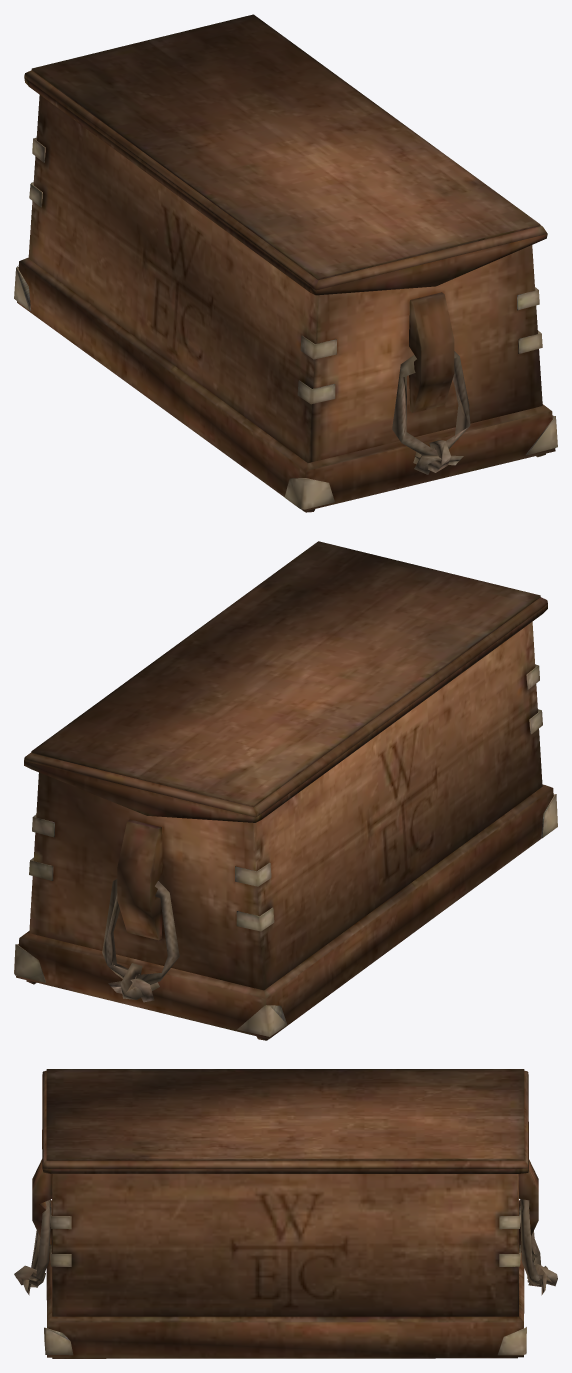
File: wooden_crate_02.glb
3 renders of one model, top to bottom at view 1: azimuth 30°, elevation 25°; view 2: azimuth 150°, elevation 25°; view 3: azimuth 270°, elevation 25°, orthographic. The views are drawn at different scales.
Parts seen in each view (by area): view 1: wooden_crate_02_crate, wooden_crate_02_lid; view 2: wooden_crate_02_crate, wooden_crate_02_lid; view 3: wooden_crate_02_crate, wooden_crate_02_lid.
Part boxes in pixels (<box>): wooden_crate_02_crate: <box>14,95,557,512</box>; wooden_crate_02_lid: <box>24,14,547,295</box>; wooden_crate_02_crate: <box>14,621,557,1040</box>; wooden_crate_02_lid: <box>24,541,547,822</box>; wooden_crate_02_crate: <box>14,1159,557,1358</box>; wooden_crate_02_lid: <box>42,1069,528,1173</box>.
Size of the model in its own units: 0.5291 by 0.4628 by 1.16.
1 material, 1 textured.
